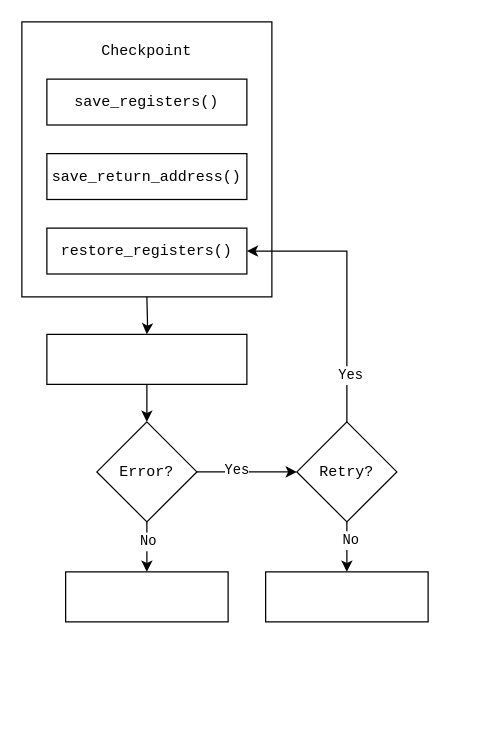
This 481x731 diagram has some shape labels left out. Each missing label, with the centre of its shape:
"Err()" goes at pixel 346 596.
"Ok()" goes at pixel 146 596.
"program_execution()" goes at pixel 146 358.
